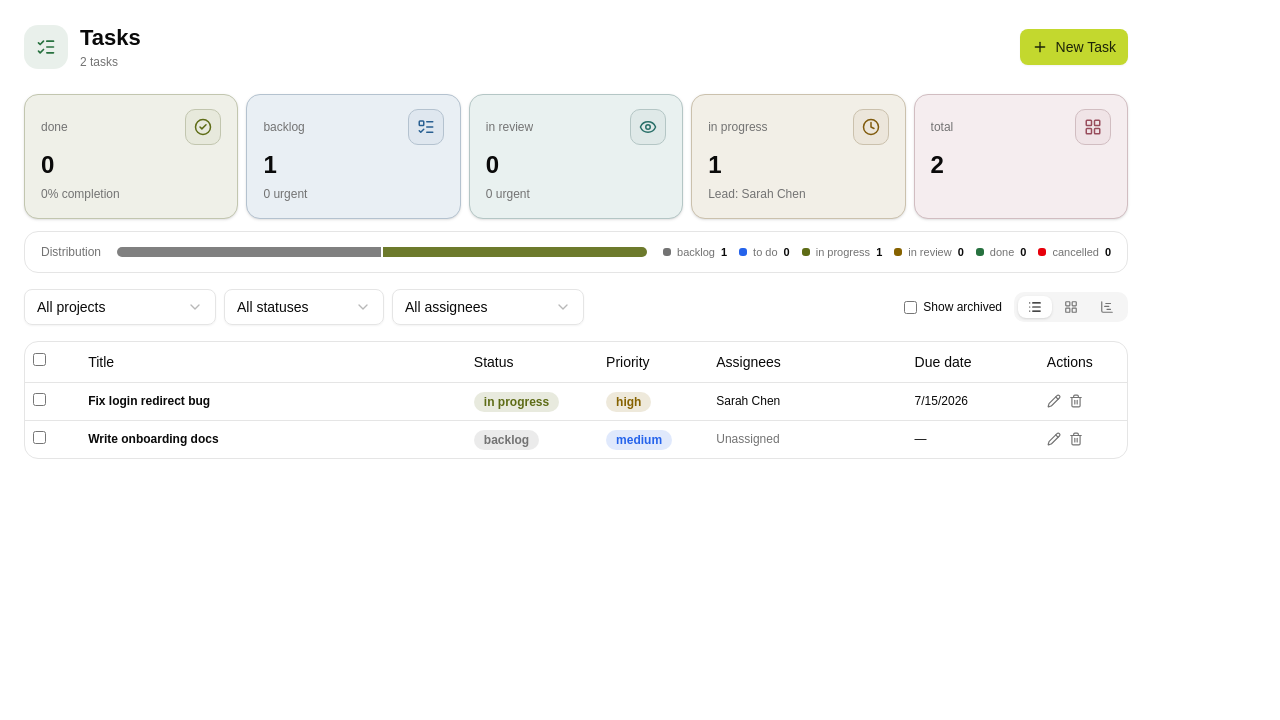
Test: Tasks — edit via unified detail modal › opens the same detail modal (with assignees section) when clicking the Edit pencil
This screenshot has width=1280, height=720.
Expected: the text "Fix login redirect bug" is shown, [88,393,210,409]
Click the button named "edit".
click(1054, 401)  # box [1047,394,1061,408]
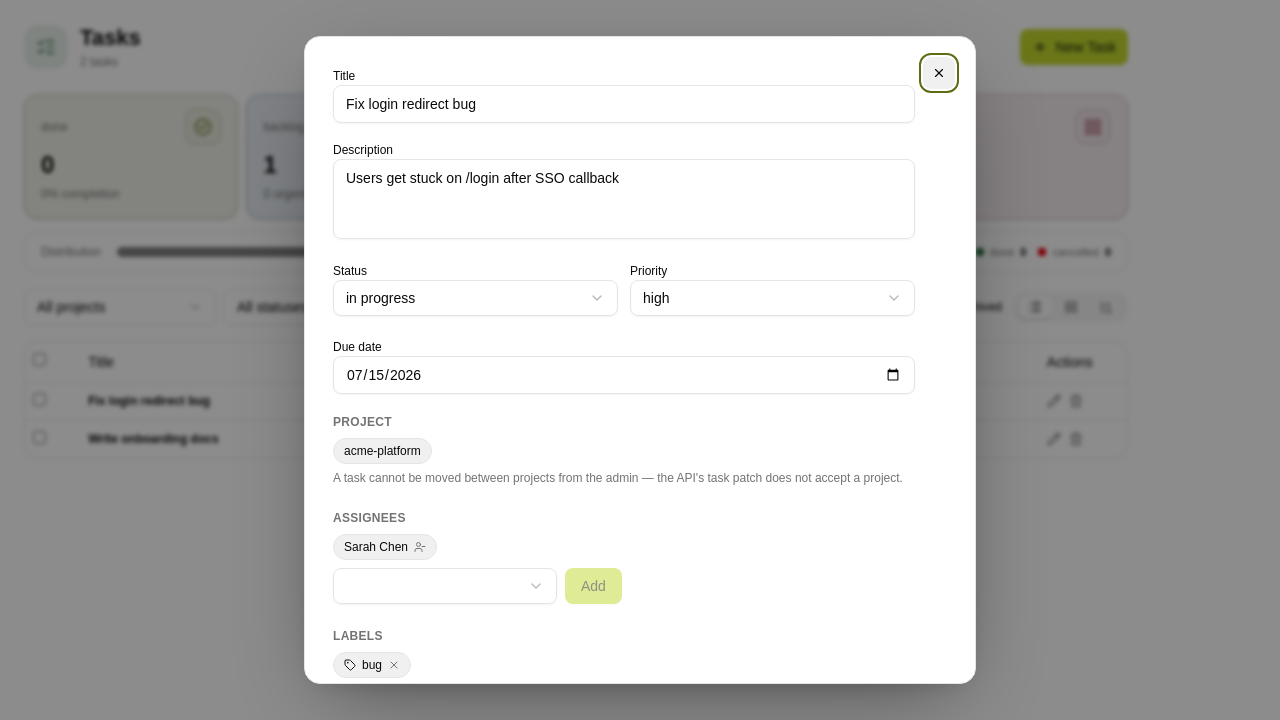
Expected: the button named "unassign sarah chen" is shown, [414,541,426,553]
